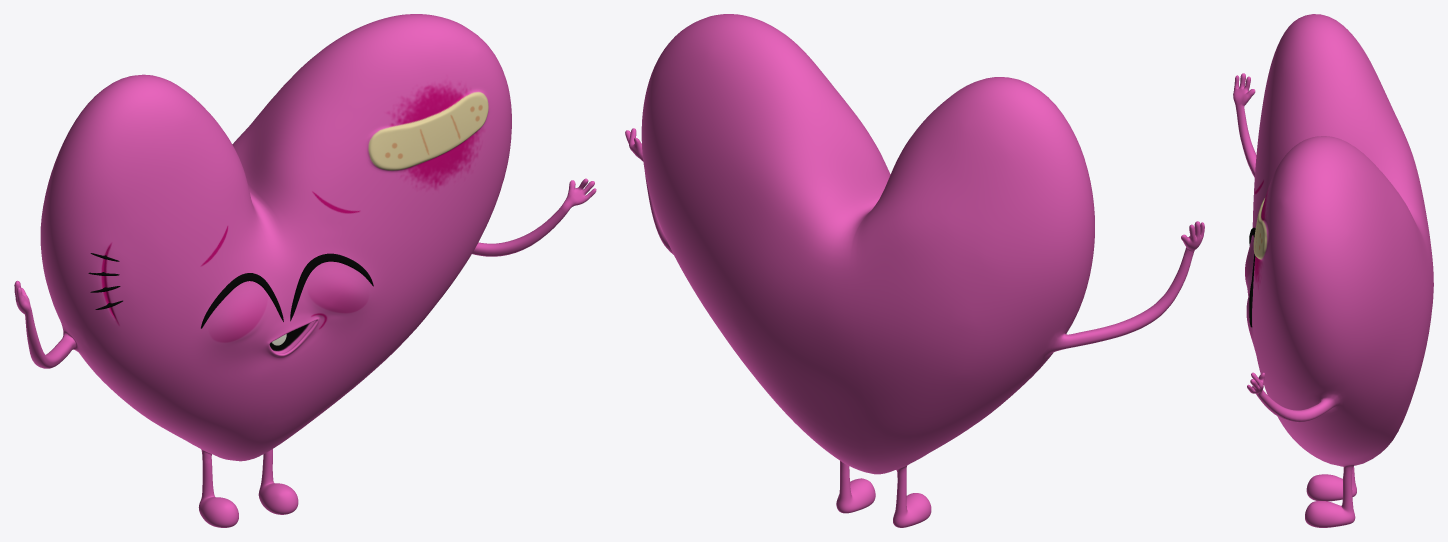
Rendered from cute2.glb.
3 views of the same model, side by side, from view 1: azimuth 30°, elevation 25°; view 2: azimuth 150°, elevation 25°; view 3: azimuth 270°, elevation 25° (orthographic). The views are drawn at different scales.
Parts seen in each view (by area): view 1: node_id137; view 2: node_id137; view 3: node_id137.
Part boxes in pixels (left/top/right/bottom): node_id137: left=14, top=14, right=596, bottom=527; node_id137: left=625, top=14, right=1204, bottom=527; node_id137: left=1233, top=14, right=1433, bottom=527.
Bounding box in the file's own units: 0.512 × 0.3909 × 0.1627.
1 material, 1 textured.
